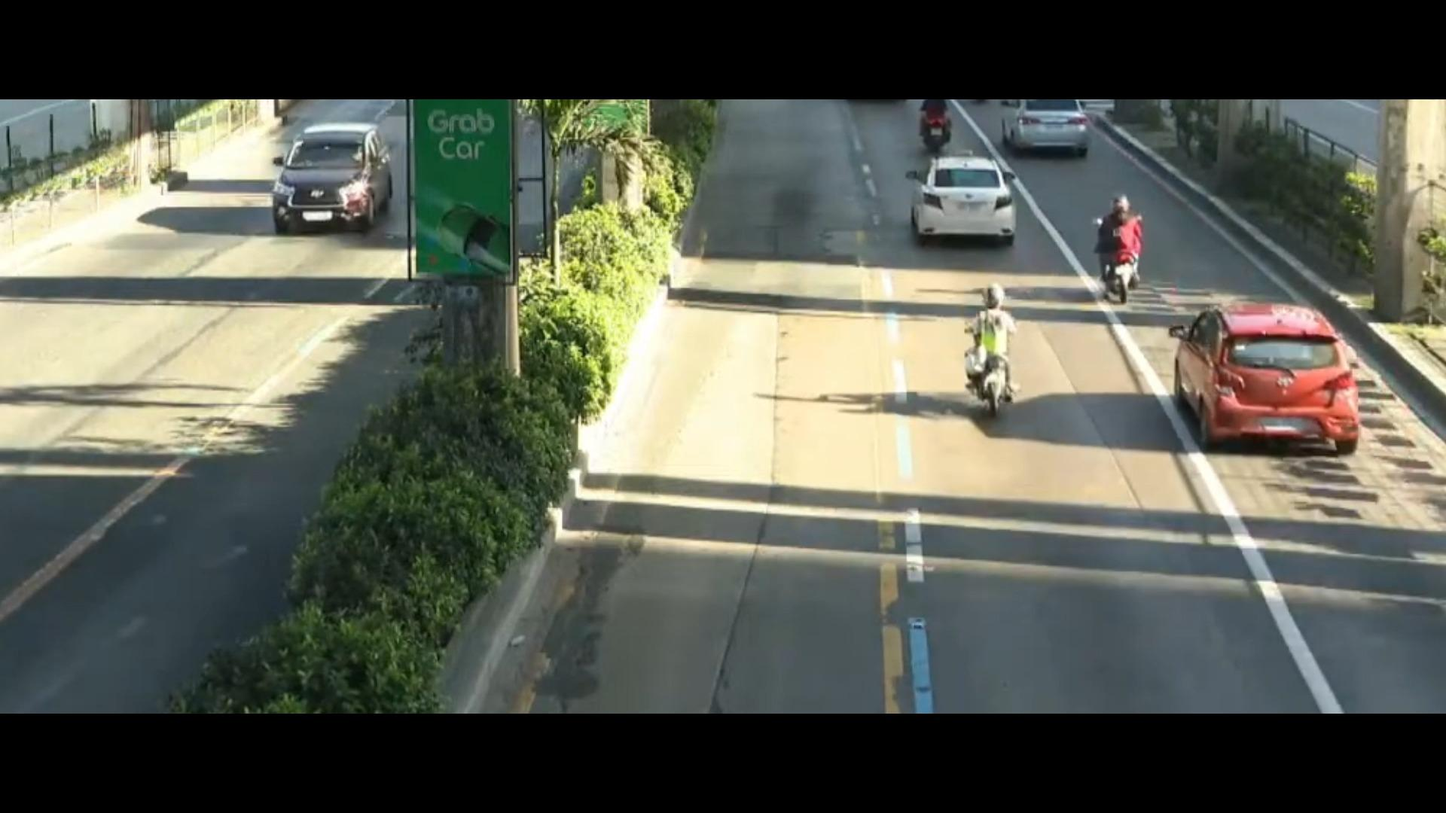Motorcycle: (1066, 172, 1175, 303), (944, 277, 1038, 428), (908, 89, 961, 151)
Sedan: (1160, 294, 1377, 465), (241, 106, 403, 261), (887, 147, 1034, 274), (977, 96, 1106, 169)
